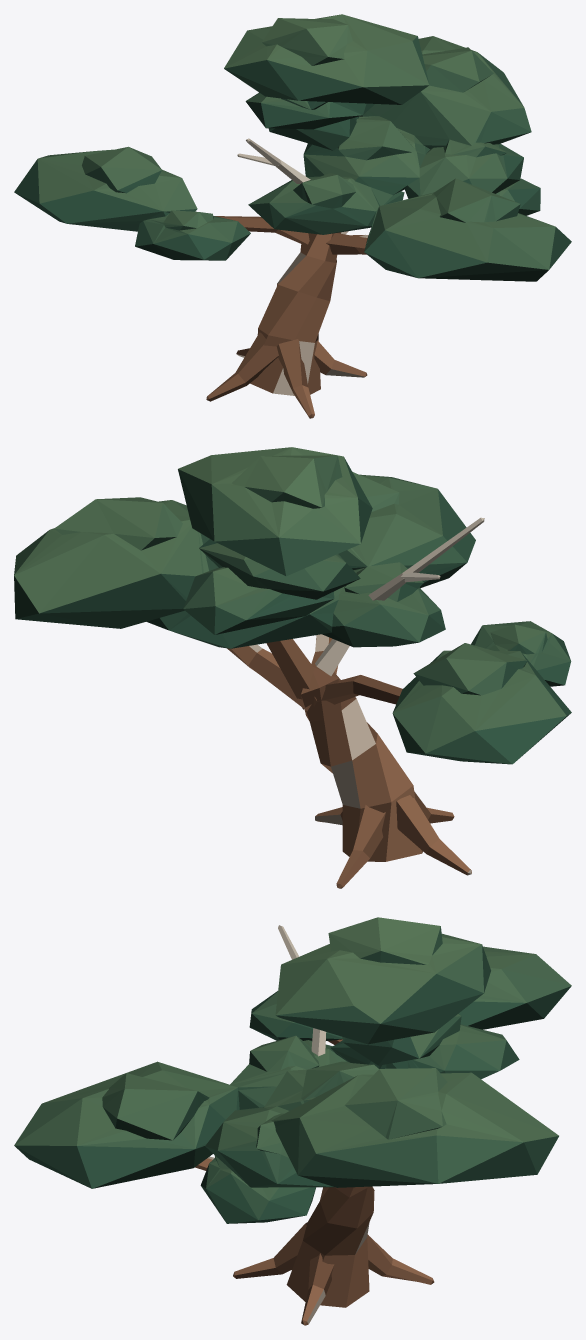
Rendered from zenscape-hero-juniper.glb.
3 views of the same model, one above another, from view 1: azimuth 30°, elevation 25°; view 2: azimuth 150°, elevation 25°; view 3: azimuth 270°, elevation 25° (orthographic). The views are drawn at different scales.
Visible parts, largest first — view 1: Crown, Bark, Deadwood; view 2: Crown, Bark, Deadwood; view 3: Crown, Bark, Deadwood.
Boxes of the visible parts, left/top/right/bottom form: Crown: left=14, top=14, right=571, bottom=281; Bark: left=206, top=216, right=368, bottom=418; Deadwood: left=237, top=138, right=310, bottom=183; Crown: left=14, top=447, right=571, bottom=764; Bark: left=227, top=634, right=471, bottom=888; Deadwood: left=315, top=517, right=484, bottom=675; Crown: left=14, top=917, right=571, bottom=1223; Bark: left=195, top=1039, right=434, bottom=1325; Deadwood: left=278, top=925, right=326, bottom=1056.
Bounding box in the file's own units: 4.79 × 3.32 × 4.24.
